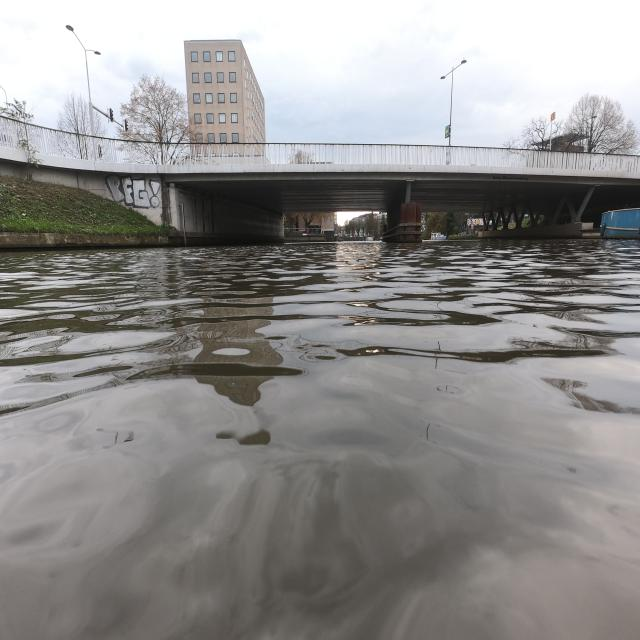boat: (600, 209, 640, 239)
dock: (0, 232, 169, 249)
grass: (0, 174, 176, 234)
sky: (0, 6, 638, 138)
wall: (162, 181, 284, 244), (478, 223, 582, 239)
water: (0, 235, 640, 640)
